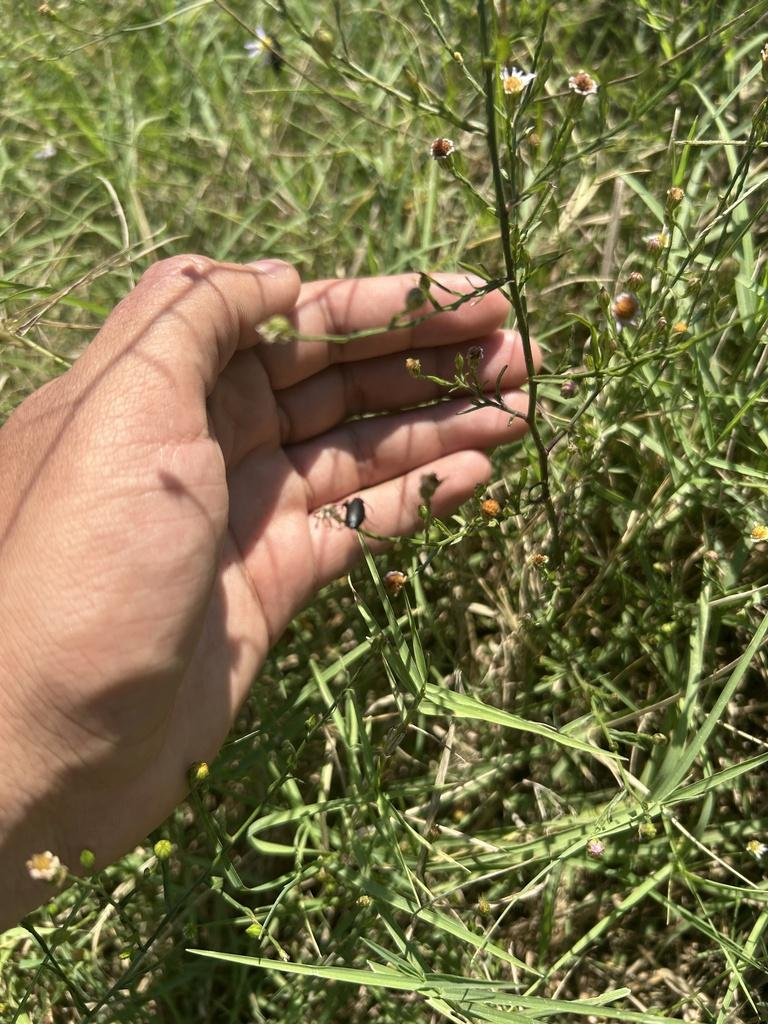blister_beetle: (331, 485, 381, 542)
